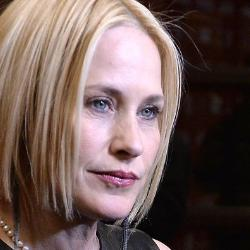face: (1, 3, 188, 233)
